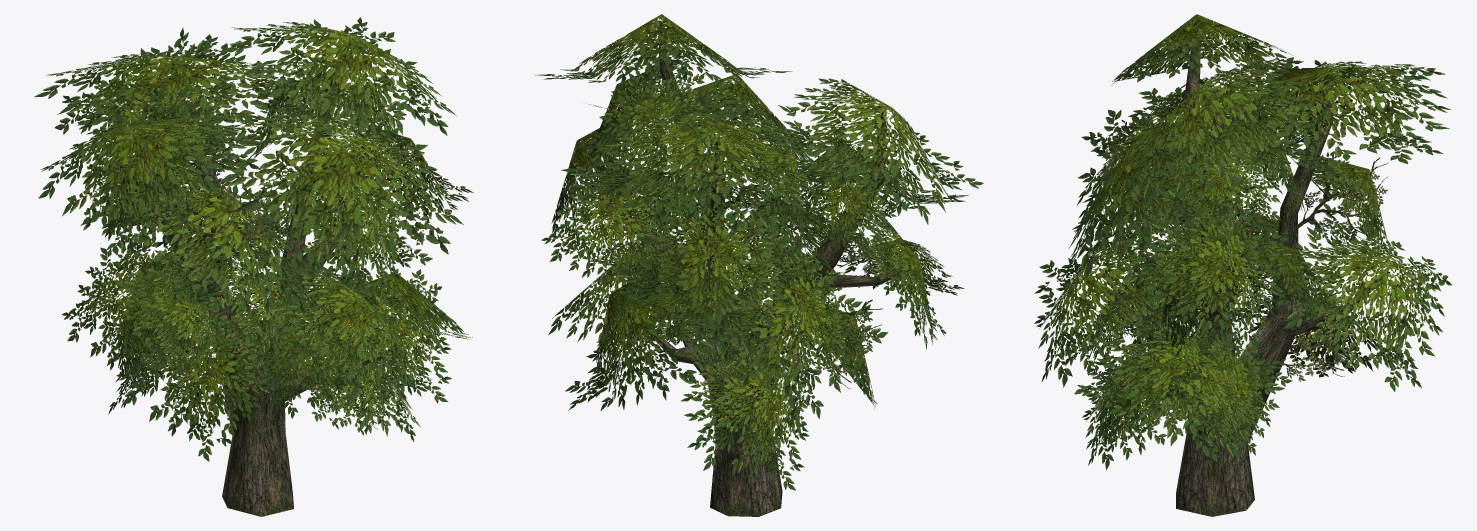
Rendered from tre_leaf01.static.glb.
The picture shows the model from 3 angles, left to right: view 1: azimuth 30°, elevation 25°; view 2: azimuth 150°, elevation 25°; view 3: azimuth 270°, elevation 25°; orthographic projection. The views are drawn at different scales.
Parts seen in each view (by area): view 1: tre_leaf_01, tre_wood_01, tre_leaf_01_1; view 2: tre_leaf_01, tre_wood_01, tre_leaf_01_1; view 3: tre_leaf_01, tre_wood_01, tre_leaf_01_1.
Boxes of the visible parts, bbox=[...] form: tre_leaf_01: bbox=[34, 17, 473, 461]; tre_wood_01: bbox=[131, 43, 407, 516]; tre_leaf_01_1: bbox=[114, 90, 406, 429]; tre_leaf_01: bbox=[534, 14, 983, 490]; tre_wood_01: bbox=[579, 22, 914, 516]; tre_leaf_01_1: bbox=[602, 81, 901, 459]; tre_leaf_01: bbox=[1034, 14, 1452, 470]; tre_wood_01: bbox=[1088, 22, 1389, 516]; tre_leaf_01_1: bbox=[1091, 65, 1388, 438].
Size of the model in its own units: 32.34 by 34.57 by 29.93.
Materials: 3 (3 with a texture image).
